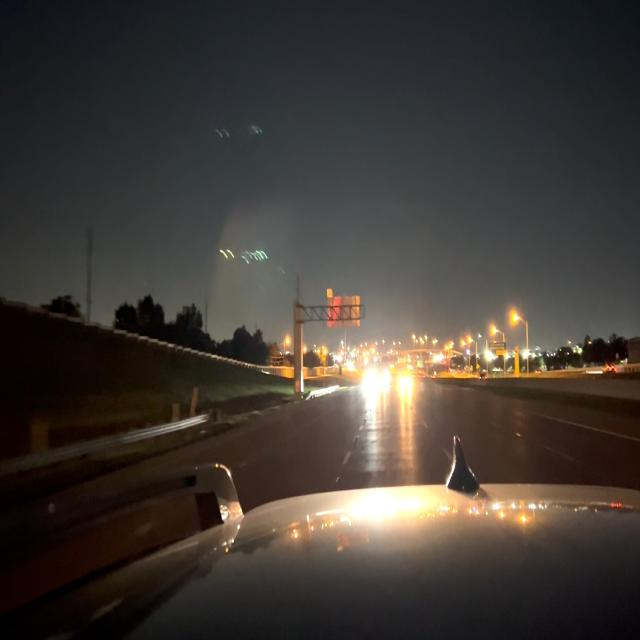back-of-sign: (327, 297, 361, 326)
